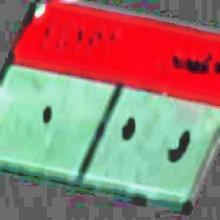0: (33, 99, 61, 143)
haa: (115, 111, 146, 159)
waw: (161, 115, 192, 181)
